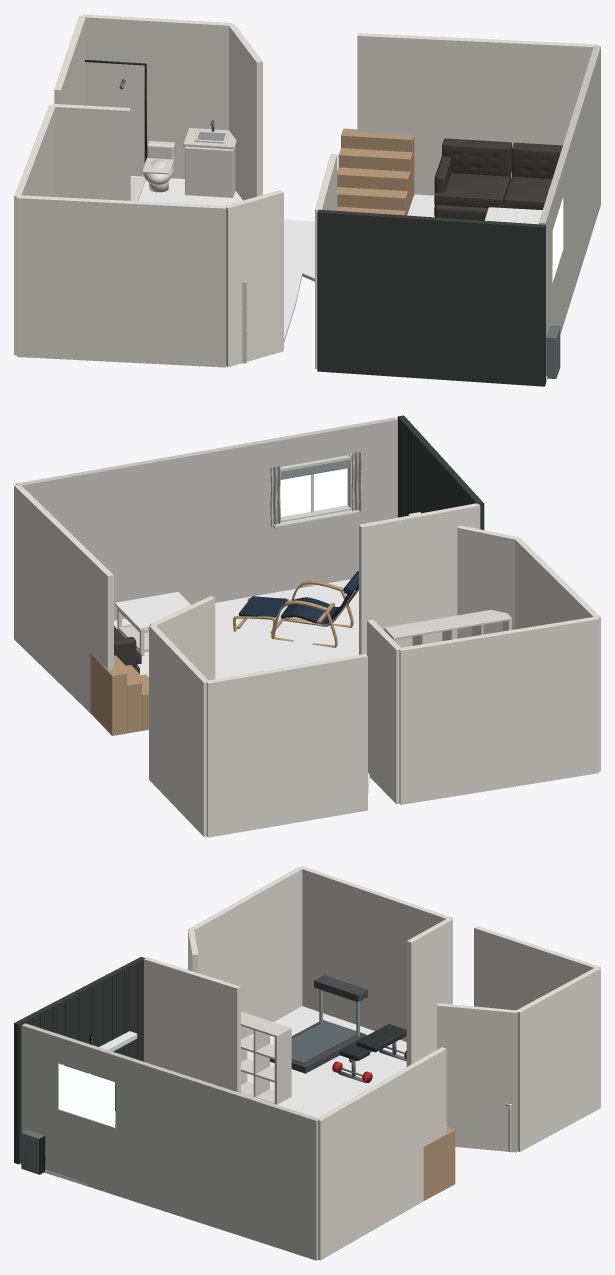
3 views of the same model, one above another, from view 1: azimuth 30°, elevation 25°; view 2: azimuth 150°, elevation 25°; view 3: azimuth 270°, elevation 25° (orthographic). The views are drawn at different scales.
Visible parts, largest first — view 1: source-wall-8-replacement, home-lower-level_observed_wall_0_panel, home-lower-level_observed_wall_6_panel, home-lower-level_observed_wall_4_panel, home-lower-level_observed_wall_10_panel, home-lower-level_observed_wall_2_panel, actual-window-cutout-wall-right, home-lower-level_observed_wall_5_panel, home-lower-level_independently_traced_floor, home-lower-level_observed_wall_1_panel, home-lower-level__bath_vanity__cabinet, home-lower-level__lounge_sofa__back_0__source_closed (+18 smaller); view 2: home-lower-level_observed_wall_1_panel, actual-window-cutout-wall-right, home-lower-level_observed_wall_3_panel, home-lower-level_observed_wall_6_panel, home-lower-level_observed_wall_9_panel, home-lower-level_observed_wall_4_panel, home-lower-level_independently_traced_floor, home-lower-level_observed_wall_10_panel, home-lower-level_observed_wall_2_panel, source-wall-8-replacement, actual-window-cutout-wall-below, actual-window-cutout-wall-left (+13 smaller); view 3: actual-window-cutout-wall-right, home-lower-level_observed_wall_6_panel, home-lower-level_observed_wall_1_panel, home-lower-level_observed_wall_4_panel, home-lower-level_observed_wall_0_panel, home-lower-level_observed_wall_5_panel, home-lower-level_observed_wall_9_panel, source-wall-8-replacement, home-lower-level_observed_wall_3_panel, home-lower-level_independently_traced_floor, home-lower-level_observed_wall_2_panel, actual-window-cutout-wall-left (+12 smaller).
Part boxes in pixels (x1,y1,x2,y2): source-wall-8-replacement: (317, 209, 545, 386); home-lower-level_observed_wall_0_panel: (17, 195, 226, 367); home-lower-level_observed_wall_6_panel: (357, 33, 598, 195); home-lower-level_observed_wall_4_panel: (83, 14, 231, 178); home-lower-level_observed_wall_10_panel: (226, 190, 283, 367); home-lower-level_observed_wall_2_panel: (52, 104, 130, 200); actual-window-cutout-wall-right: (556, 45, 600, 324); home-lower-level_observed_wall_5_panel: (229, 24, 262, 200); home-lower-level_independently_traced_floor: (130, 176, 547, 382); home-lower-level_observed_wall_1_panel: (14, 105, 55, 355); home-lower-level__bath_vanity__cabinet: (185, 146, 235, 197); home-lower-level__lounge_sofa__back_0__source_closed: (442, 138, 511, 176); home-lower-level_observed_wall_1_panel: (399, 617, 598, 804); actual-window-cutout-wall-right: (15, 438, 276, 620); home-lower-level_observed_wall_3_panel: (206, 654, 367, 837); home-lower-level_observed_wall_6_panel: (14, 485, 113, 713); home-lower-level_observed_wall_9_panel: (359, 503, 480, 654); home-lower-level_observed_wall_4_panel: (149, 624, 207, 836); home-lower-level_independently_traced_floor: (114, 579, 369, 793); home-lower-level_observed_wall_10_panel: (457, 525, 518, 638); home-lower-level_observed_wall_2_panel: (367, 619, 401, 803); source-wall-8-replacement: (397, 415, 484, 529); actual-window-cutout-wall-below: (276, 505, 350, 592); actual-window-cutout-wall-left: (348, 417, 397, 579); actual-window-cutout-wall-right: (115, 1054, 319, 1260); home-lower-level_observed_wall_6_panel: (318, 1047, 446, 1260); home-lower-level_observed_wall_1_panel: (302, 866, 452, 1041); home-lower-level_observed_wall_4_panel: (515, 967, 600, 1151); home-lower-level_observed_wall_0_panel: (188, 866, 303, 1036); home-lower-level_observed_wall_5_panel: (437, 1003, 517, 1152); home-lower-level_observed_wall_9_panel: (144, 957, 240, 1092); source-wall-8-replacement: (14, 956, 145, 1164); home-lower-level_observed_wall_3_panel: (474, 926, 600, 1010); home-lower-level_independently_traced_floor: (21, 1006, 406, 1186); home-lower-level_observed_wall_2_panel: (406, 918, 452, 1066); actual-window-cutout-wall-left: (21, 1023, 61, 1173).
Bounding box in the file's own units: 8.99 × 2.3 × 8.76.
